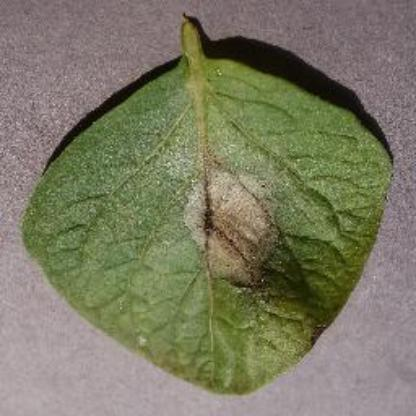Late-Blight: (18, 17, 406, 401)
